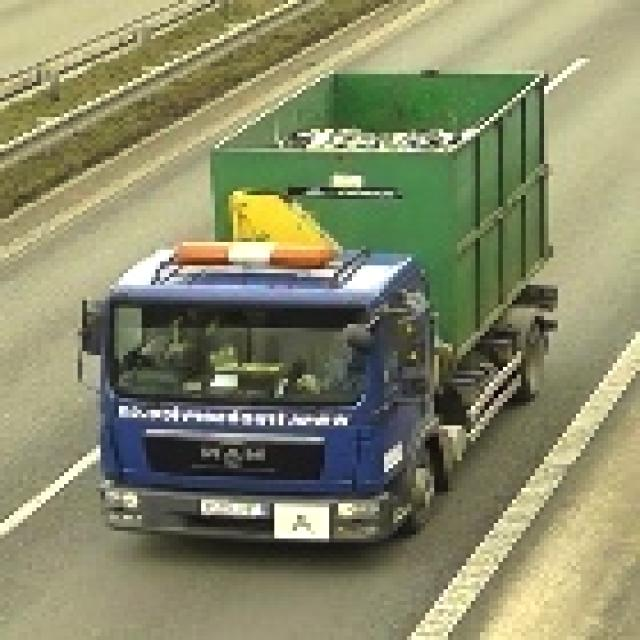truck: (74, 68, 559, 544)
